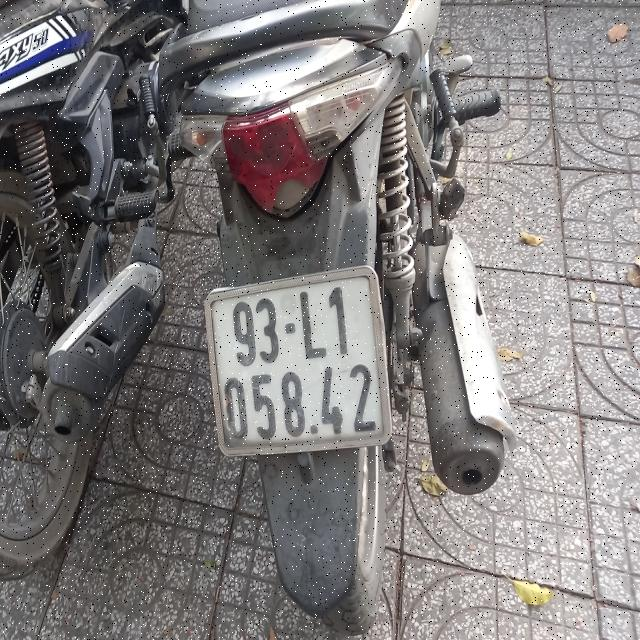0: (222, 373, 248, 444)
1: (326, 284, 354, 355)
2: (348, 362, 376, 435)
3: (256, 296, 282, 364)
4: (320, 366, 343, 432)
5: (251, 372, 275, 441)
8: (281, 370, 307, 436)
9: (232, 301, 258, 367)
L: (300, 287, 328, 360)
